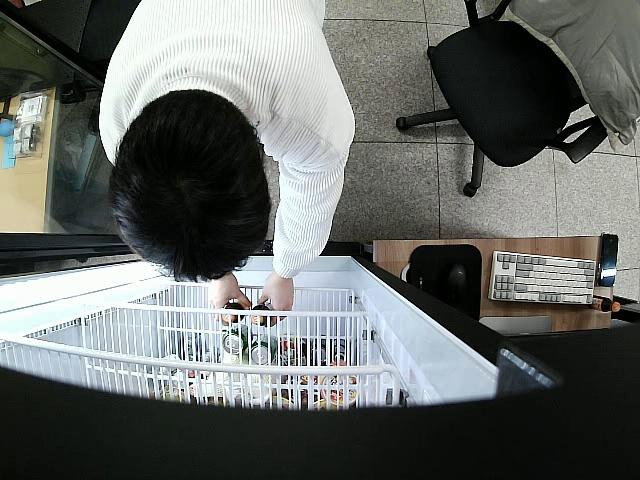00_hand: (208, 282, 252, 325), (259, 279, 294, 328)
17_vita500: (223, 303, 245, 324), (251, 305, 271, 326)
